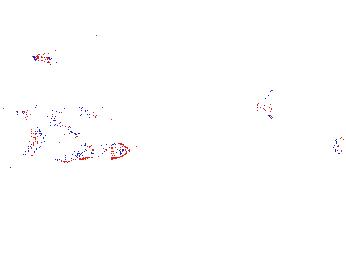X-ray fish: (252, 86, 293, 119), (331, 135, 346, 158)
glassfish: (187, 119, 292, 179)
red belly glassfish: (32, 52, 57, 64)
redtail glassfish: (23, 129, 130, 159), (18, 98, 103, 120)
